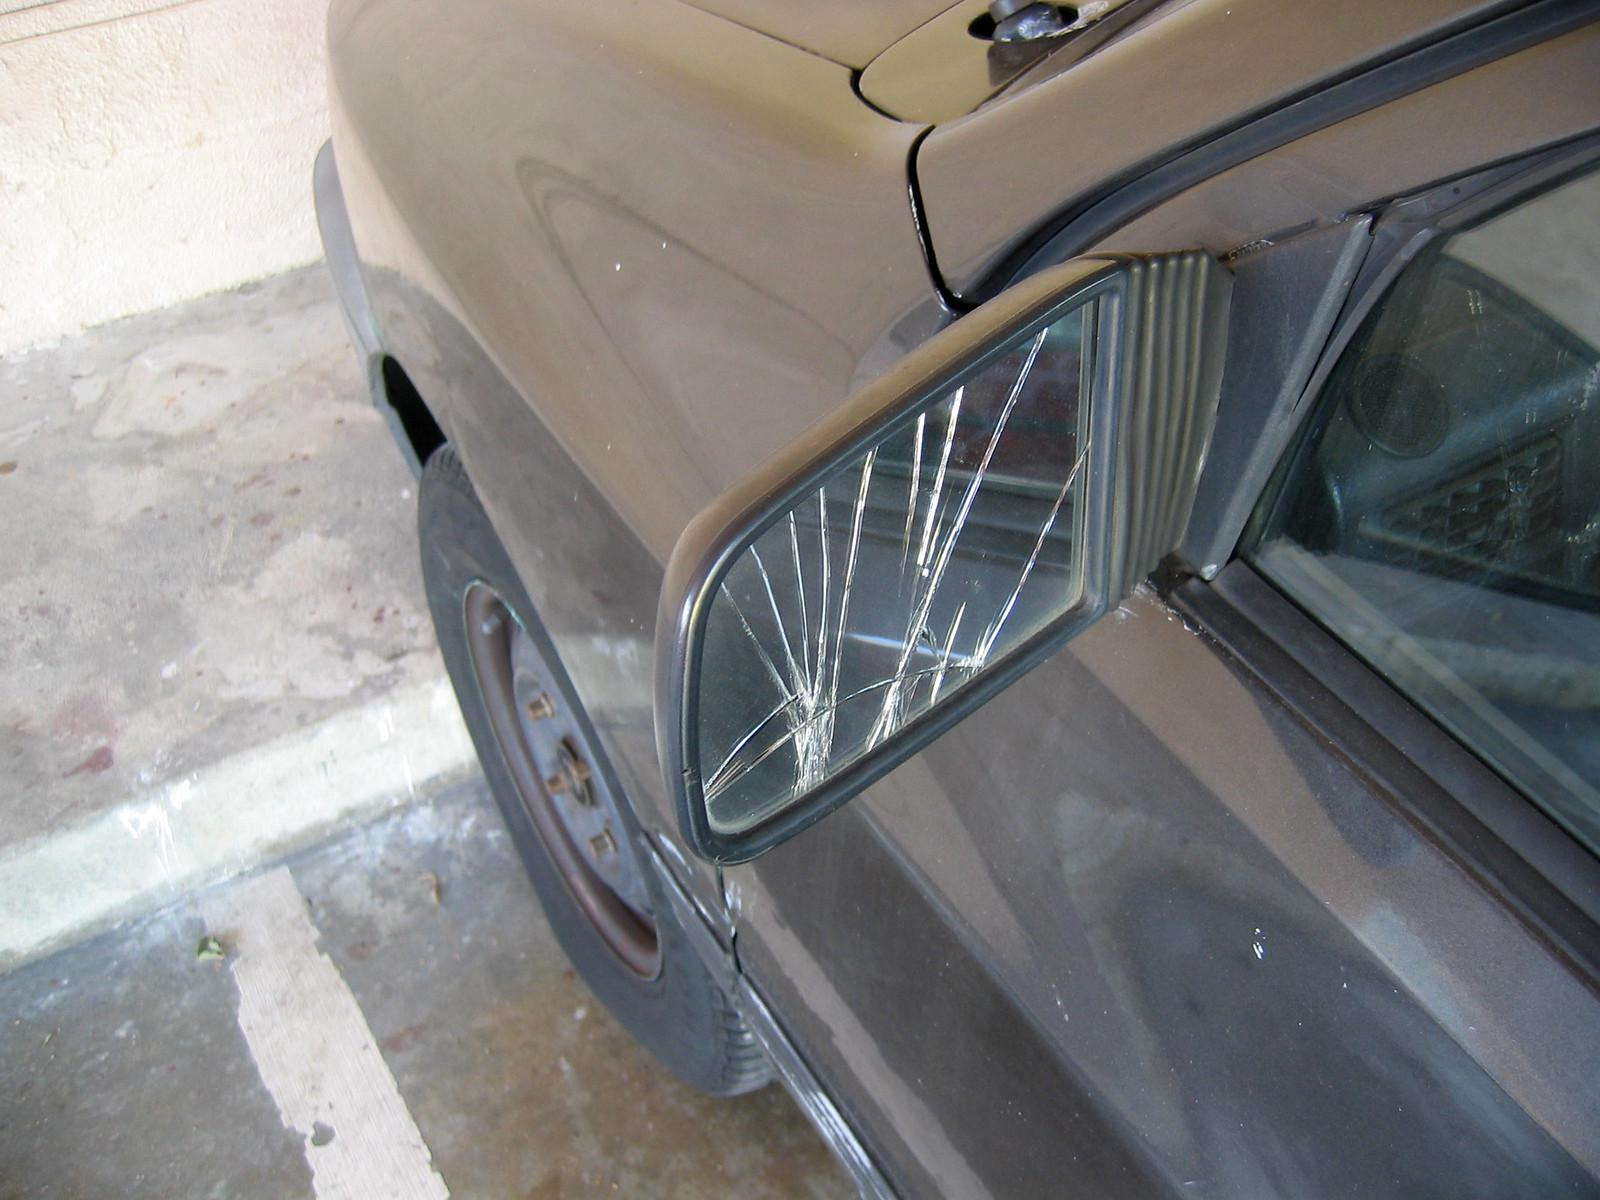Sidemirror-Damage: (548, 247, 1335, 870)
